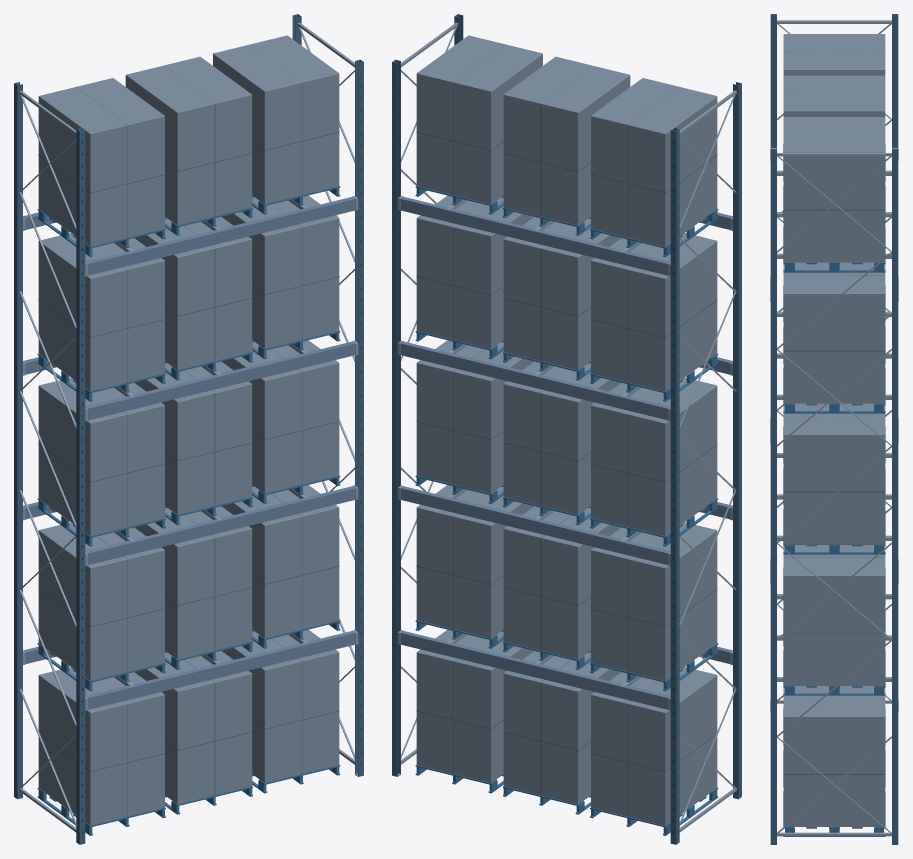
Rendered from SM_GHS_CADRack_C.fbx.
3 renders of one model, left to right at view 1: azimuth 30°, elevation 25°; view 2: azimuth 150°, elevation 25°; view 3: azimuth 270°, elevation 25°, orthographic. The views are drawn at different scales.
Visible parts, largest first — view 1: SM_GHS_CADRack_C; view 2: SM_GHS_CADRack_C; view 3: SM_GHS_CADRack_C.
Part boxes in pixels (x1,y1,x2,y2): SM_GHS_CADRack_C: [14, 14, 363, 844]; SM_GHS_CADRack_C: [392, 14, 741, 844]; SM_GHS_CADRack_C: [770, 14, 898, 844].
Bounding box in the file's own units: 381 × 153 × 914.
